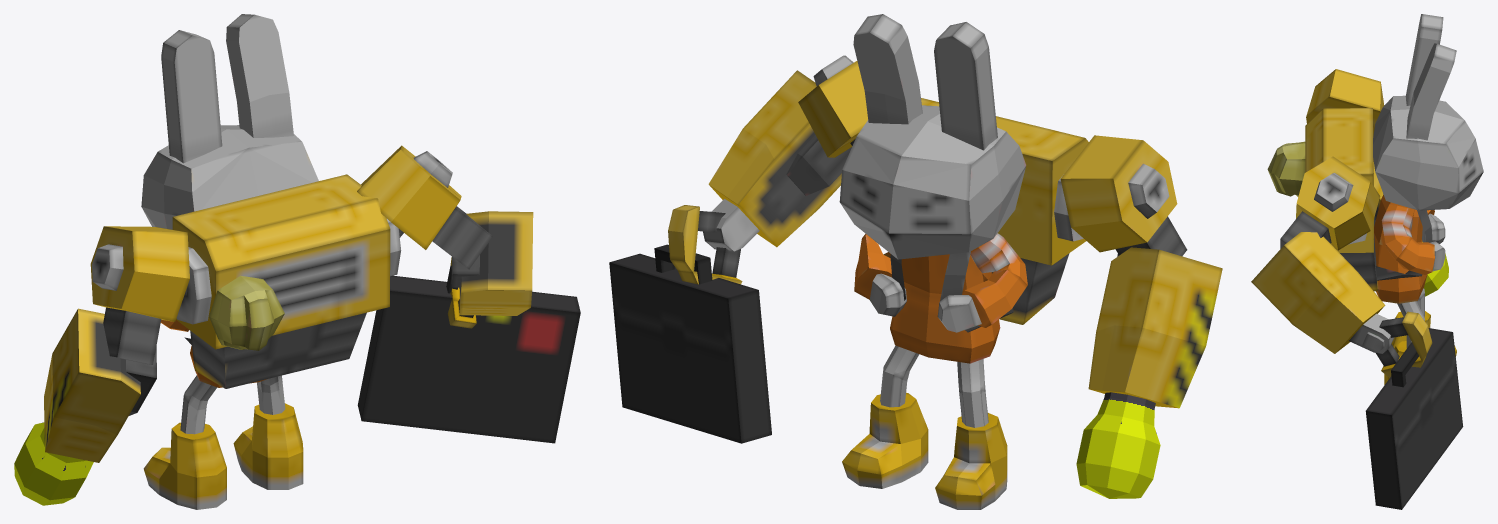
Rendered from epet8.gltf.
3 renders of one model, left to right at view 1: azimuth 30°, elevation 25°; view 2: azimuth 150°, elevation 25°; view 3: azimuth 270°, elevation 25°, orthographic. The views are drawn at different scales.
Visible parts, largest first — view 1: cuboid (×18); view 2: cuboid (×26), plane; view 3: cuboid (×20), plane.
Part boxes in pixels (box(x1,y1,x2,y2)): cuboid (×18): box(14, 14, 580, 509); cuboid (×26): box(609, 14, 1222, 509); plane: box(940, 251, 1013, 332); cuboid (×20): box(1251, 14, 1483, 509); plane: box(1375, 210, 1432, 280).
Bounding box in the file's own units: 3.56 × 2.89 × 1.67.
Materials: 32 (32 with a texture image).
